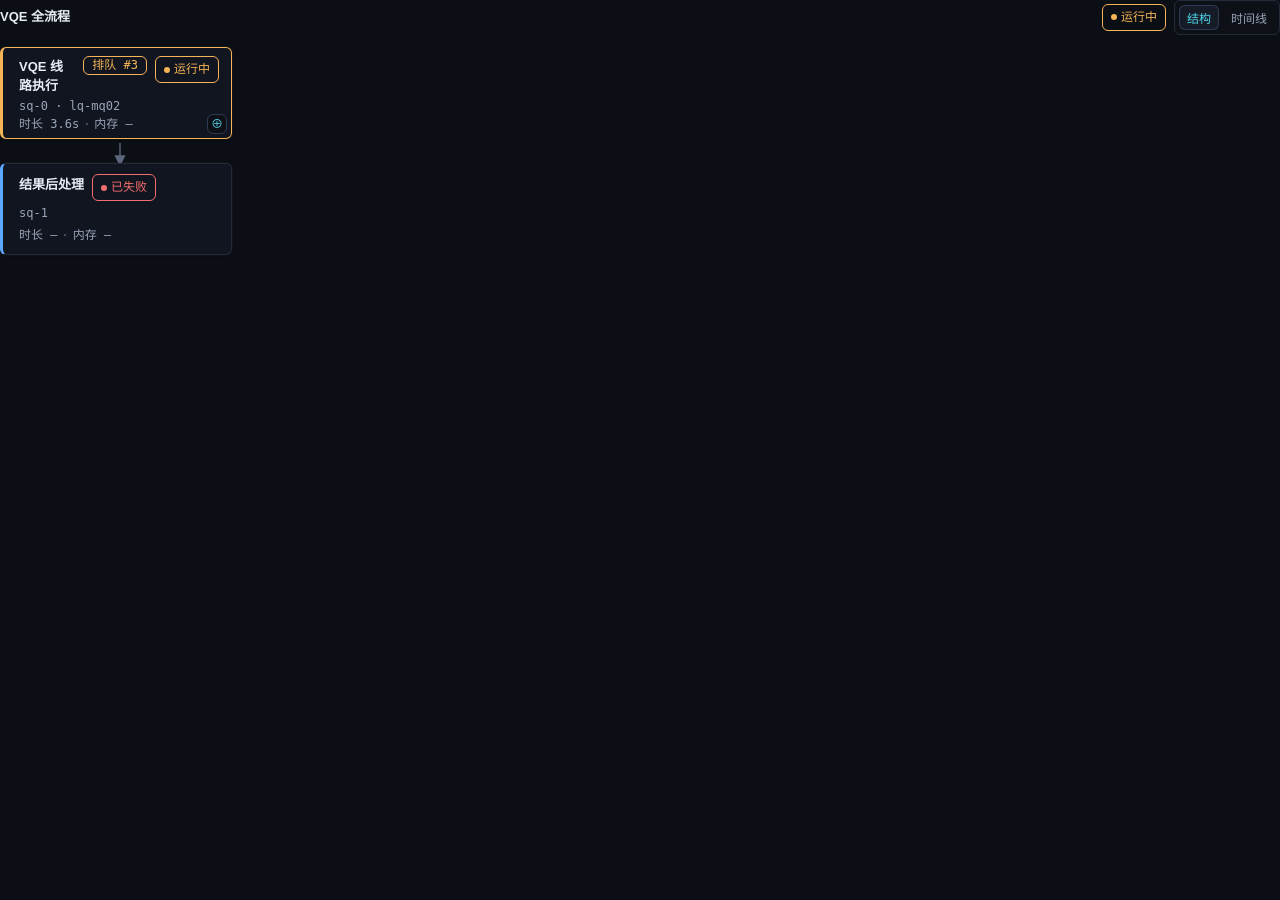
DagView v1.4 排队与云端字段 › Drawer：cloud_job_id 与 circuit 摘要行（qubits/门数）
Click the button with test id "dag-node-sq-0".
click(116, 93)  # box [0,47,232,139]
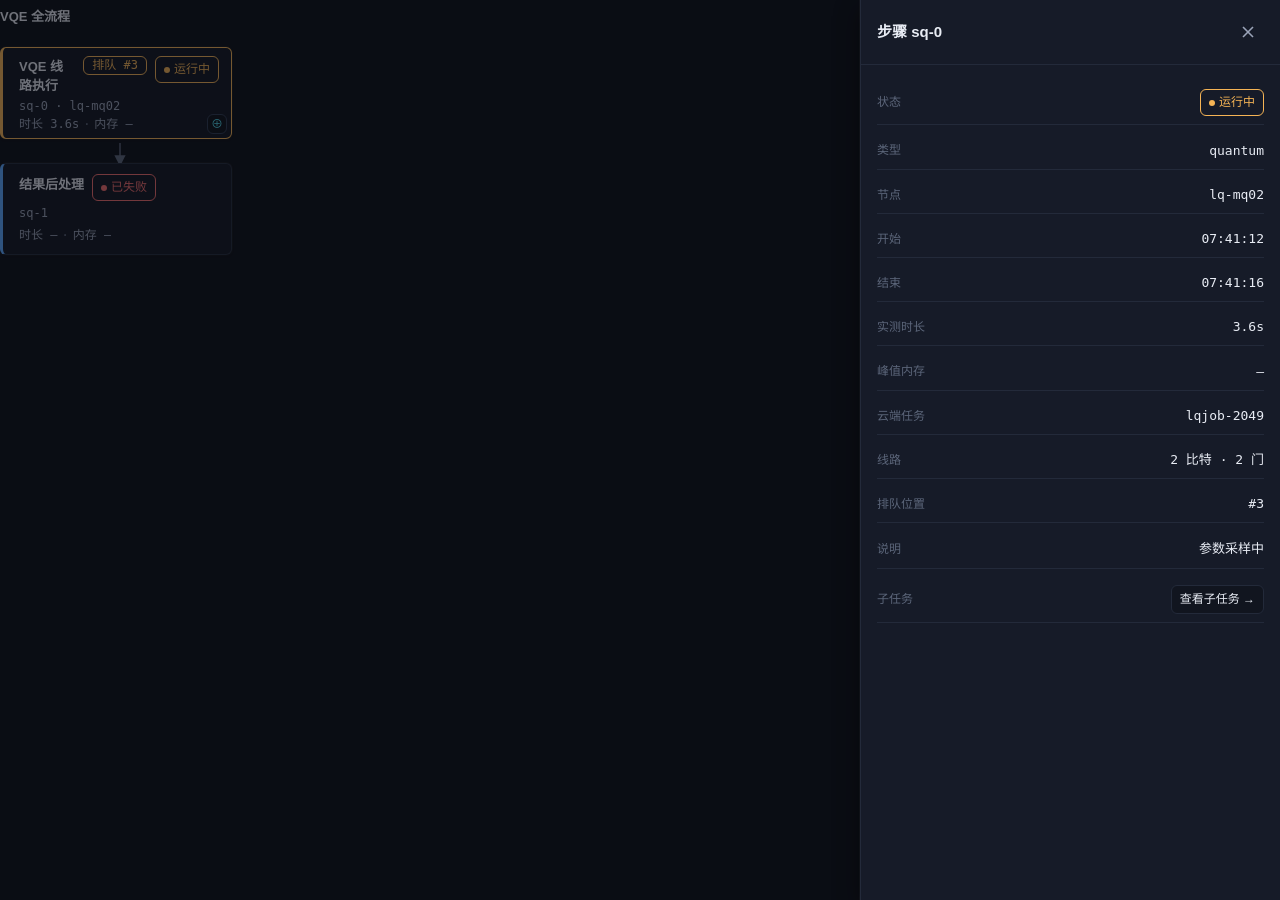
expect the dialog with test id "drawer" shows "lqjob-2049": met, box [1186,408,1264,423]
expect the dialog with test id "drawer" shows "2 比特 · 2 门": met, box [1170,452,1264,467]
